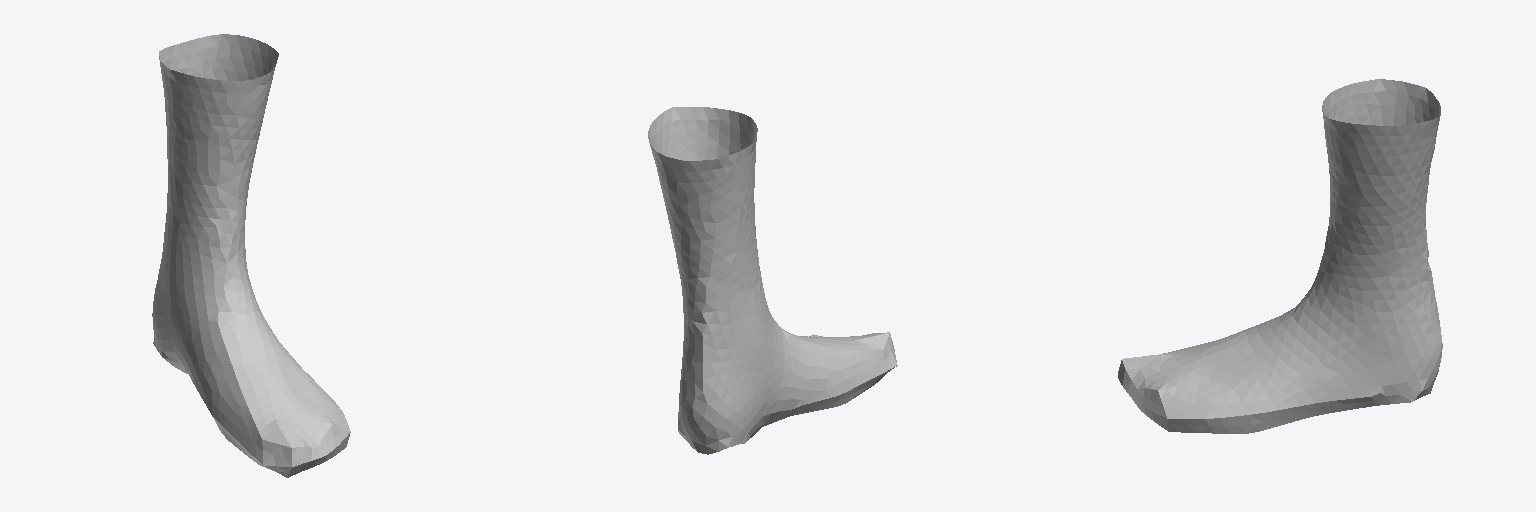
Rendered from sock1055-2081.obj.
3 renders of one model, left to right at view 1: azimuth 30°, elevation 25°; view 2: azimuth 150°, elevation 25°; view 3: azimuth 270°, elevation 25°, orthographic.
Bounding box in the file's own units: 0.1271 × 0.3191 × 0.2918.